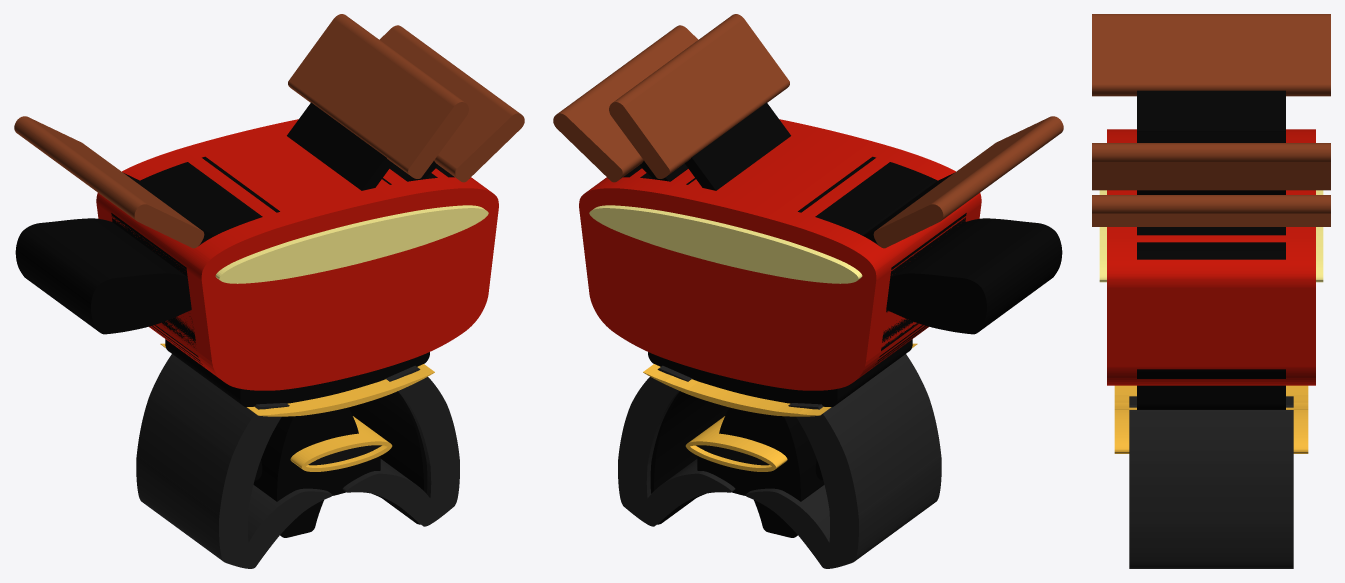
Rendered from U+1FAD5.obj.
3 views of the same model, side by side, from view 1: azimuth 30°, elevation 25°; view 2: azimuth 150°, elevation 25°; view 3: azimuth 270°, elevation 25° (orthographic).
Visible parts, largest first — view 1: U+1FAD5_layer04_obj00, U+1FAD5_layer01_obj00, U+1FAD5_layer06_obj01, U+1FAD5_layer00_obj00, U+1FAD5_layer05_obj00, U+1FAD5_layer01_obj01, U+1FAD5_layer06_obj00, U+1FAD5_layer06_obj02, U+1FAD5_layer00_obj13, U+1FAD5_layer00_obj14, U+1FAD5_layer00_obj04, U+1FAD5_layer00_obj12 (+6 smaller); view 2: U+1FAD5_layer04_obj00, U+1FAD5_layer01_obj00, U+1FAD5_layer06_obj01, U+1FAD5_layer00_obj00, U+1FAD5_layer05_obj00, U+1FAD5_layer01_obj01, U+1FAD5_layer06_obj00, U+1FAD5_layer06_obj02, U+1FAD5_layer00_obj13, U+1FAD5_layer00_obj14, U+1FAD5_layer00_obj04, U+1FAD5_layer00_obj12 (+6 smaller); view 3: U+1FAD5_layer04_obj00, U+1FAD5_layer01_obj01, U+1FAD5_layer06_obj02, U+1FAD5_layer06_obj01, U+1FAD5_layer06_obj00, U+1FAD5_layer00_obj16, U+1FAD5_layer00_obj09, U+1FAD5_layer00_obj03, U+1FAD5_layer00_obj13, U+1FAD5_layer03_obj02, U+1FAD5_layer03_obj01, U+1FAD5_layer05_obj00 (+1 smaller).
Part boxes in pixels (x1,y1,x2,y2): U+1FAD5_layer04_obj00: (96,119,498,390); U+1FAD5_layer01_obj00: (136,354,332,568); U+1FAD5_layer06_obj01: (288,14,468,178); U+1FAD5_layer00_obj00: (15,218,191,334); U+1FAD5_layer05_obj00: (215,205,488,283); U+1FAD5_layer01_obj01: (342,365,459,526); U+1FAD5_layer06_obj00: (379,25,524,182); U+1FAD5_layer06_obj02: (14,116,204,248); U+1FAD5_layer00_obj13: (111,156,279,364); U+1FAD5_layer00_obj14: (253,381,342,537); U+1FAD5_layer00_obj04: (287,102,392,190); U+1FAD5_layer00_obj12: (345,391,427,524); U+1FAD5_layer04_obj00: (579,119,981,390); U+1FAD5_layer01_obj00: (745,354,941,568); U+1FAD5_layer06_obj01: (609,14,789,178); U+1FAD5_layer00_obj00: (886,218,1062,334); U+1FAD5_layer05_obj00: (589,205,862,283); U+1FAD5_layer01_obj01: (618,365,735,526); U+1FAD5_layer06_obj00: (553,25,698,182); U+1FAD5_layer06_obj02: (873,116,1063,248); U+1FAD5_layer00_obj13: (798,156,966,364); U+1FAD5_layer00_obj14: (735,381,824,537); U+1FAD5_layer00_obj04: (685,102,790,190); U+1FAD5_layer00_obj12: (650,391,732,524); U+1FAD5_layer04_obj00: (1107,129,1315,385); U+1FAD5_layer01_obj01: (1129,396,1293,568); U+1FAD5_layer06_obj02: (1092,14,1330,96); U+1FAD5_layer06_obj01: (1092,143,1330,190); U+1FAD5_layer06_obj00: (1092,195,1330,226); U+1FAD5_layer00_obj16: (1137,90,1285,130); U+1FAD5_layer00_obj09: (1137,227,1285,385); U+1FAD5_layer00_obj03: (1137,386,1285,409); U+1FAD5_layer00_obj13: (1137,131,1285,142); U+1FAD5_layer03_obj02: (1114,410,1308,451); U+1FAD5_layer03_obj01: (1114,385,1308,409); U+1FAD5_layer05_obj00: (1099,190,1323,282).
Size of the model in its own units: 0.3159 by 0.319 by 0.16.
